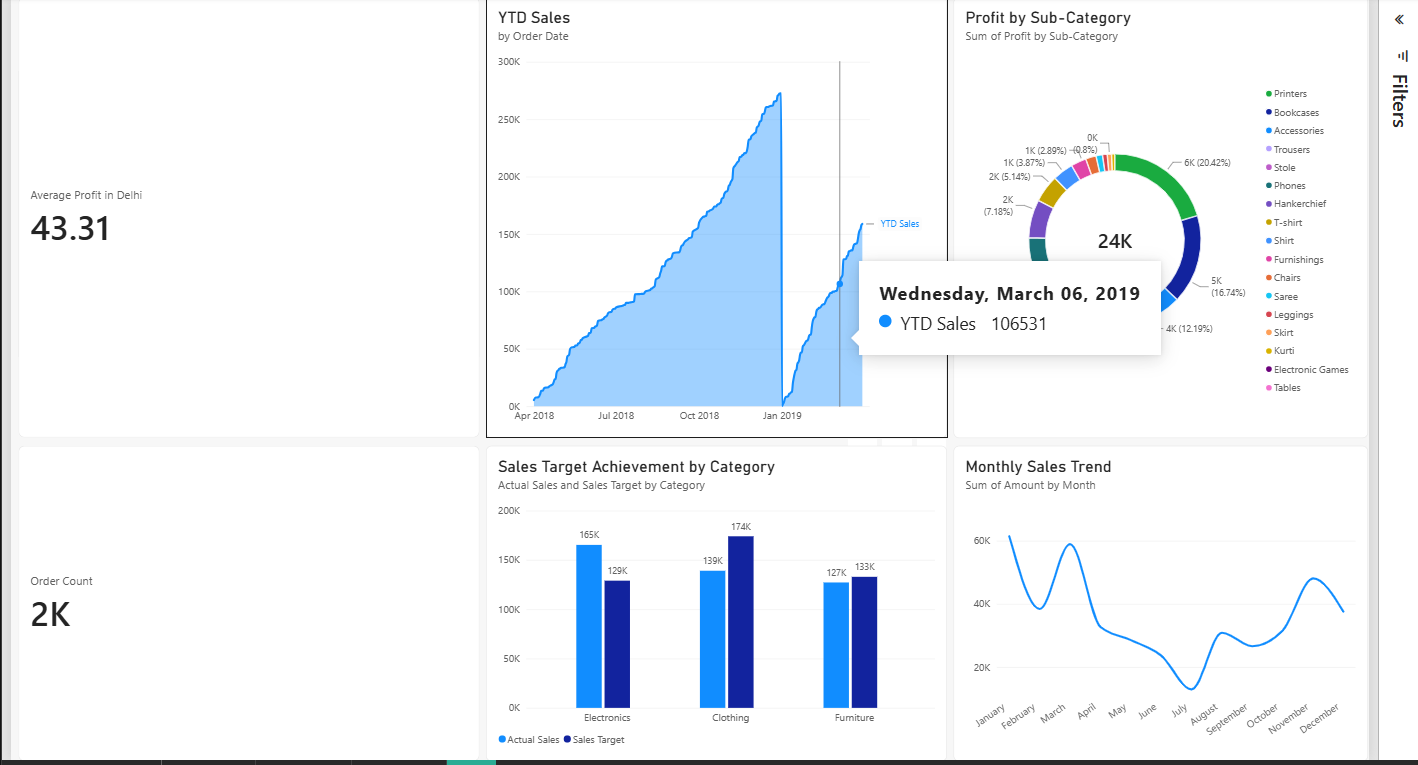

The page's visual inventory and layout, read from the dashboard file:
{"tool":"powerbi","page":{"name":"Page 1","canvas":[1920,1080],"ordinal":0},"visuals":[{"type":"cardVisual","fields":{"Data":["Order Details (1).Average Profit in Delhi"]},"box":[10,0,652.5,623.7],"z":0},{"type":"cardVisual","fields":{"Data":["Order Details (1).Order Count"]},"box":[10,634,652,446],"z":1},{"type":"lineChart","fields":{"Category":["List of Orders (1).Order Date"],"Y":["Order Details (1).YTD Sales"]},"box":[672,0,652,624],"z":2},{"type":"clusteredColumnChart","title":"Sales Target Achievement by Category","fields":{"Category":["Sales target (1).Category"],"Y":["Sum(Order Details (1).Amount)","Sum(Sales target (1).Target)"]},"box":[672,634,652,446],"z":3},{"type":"donutChart","title":"Profit by Sub-Category","fields":{"Category":["Order Details (1).Sub-Category"],"Y":["Sum(Order Details (1).Profit)"]},"box":[1334,0,586,624],"z":4},{"type":"lineChart","title":"Monthly Sales Trend","fields":{"Category":["List of Orders (1).Order Date.Variation.Date Hierarchy.Month"],"Y":["Sum(Order Details (1).Amount)"]},"box":[1334,634,586,446],"z":5}]}

Visuals, with their boxes on the page's 1920x1080 design canvas (x1, y1, x2, y2). These are canvas units, not pixel positions in the 1418x765 screenshot, which may show the page scaled, cropped or inside an application window:
cardVisual - Order Details (1).Average Profit in Delhi: bbox=[10, 0, 662, 624]
cardVisual - Order Details (1).Order Count: bbox=[10, 634, 662, 1080]
lineChart - List of Orders (1).Order Date x Order Details (1).YTD Sales: bbox=[672, 0, 1324, 624]
"Sales Target Achievement by Category" clusteredColumnChart: bbox=[672, 634, 1324, 1080]
"Profit by Sub-Category" donutChart: bbox=[1334, 0, 1920, 624]
"Monthly Sales Trend" lineChart: bbox=[1334, 634, 1920, 1080]
